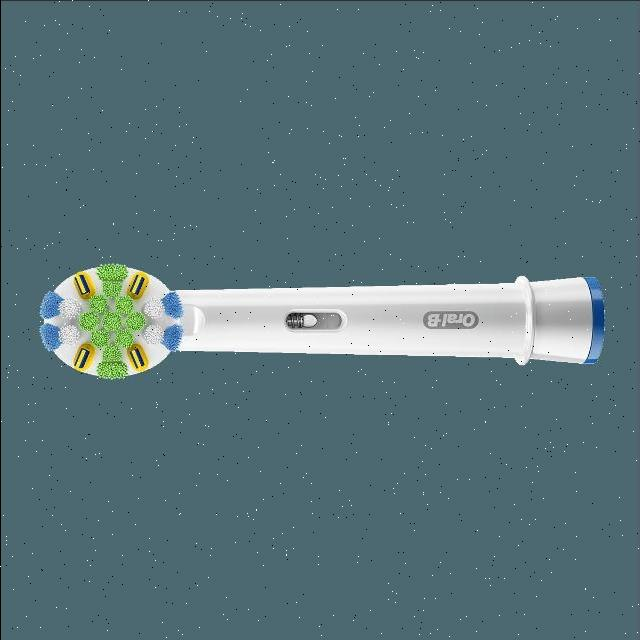toothbrush: (0, 239, 634, 411)
